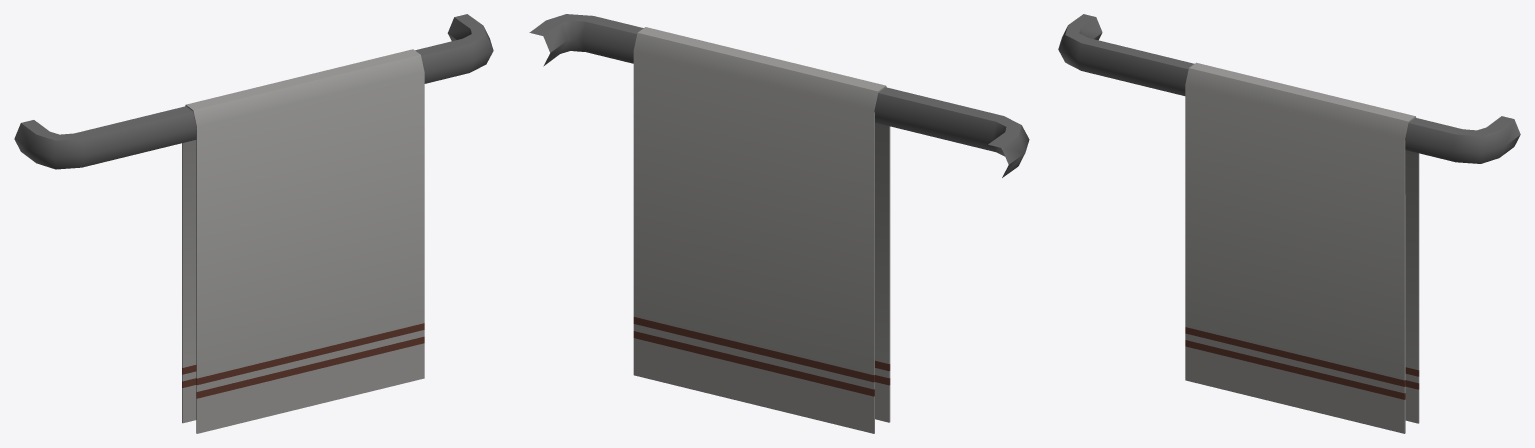
Rendered from sanitary-towel-rack.glb.
3 views of the same model, side by side, from view 1: azimuth 30°, elevation 25°; view 2: azimuth 150°, elevation 25°; view 3: azimuth 330°, elevation 25° (orthographic). The views are drawn at different scales.
Visible parts, largest first — view 1: Bathroom_Towel; view 2: Bathroom_Towel; view 3: Bathroom_Towel.
Part boxes in pixels (box(x1,y1,x2,y2)): Bathroom_Towel: box(14, 14, 493, 433); Bathroom_Towel: box(529, 14, 1029, 433); Bathroom_Towel: box(1058, 14, 1520, 433).
Bounding box in the file's own units: 0.6 × 0.4 × 0.08.
